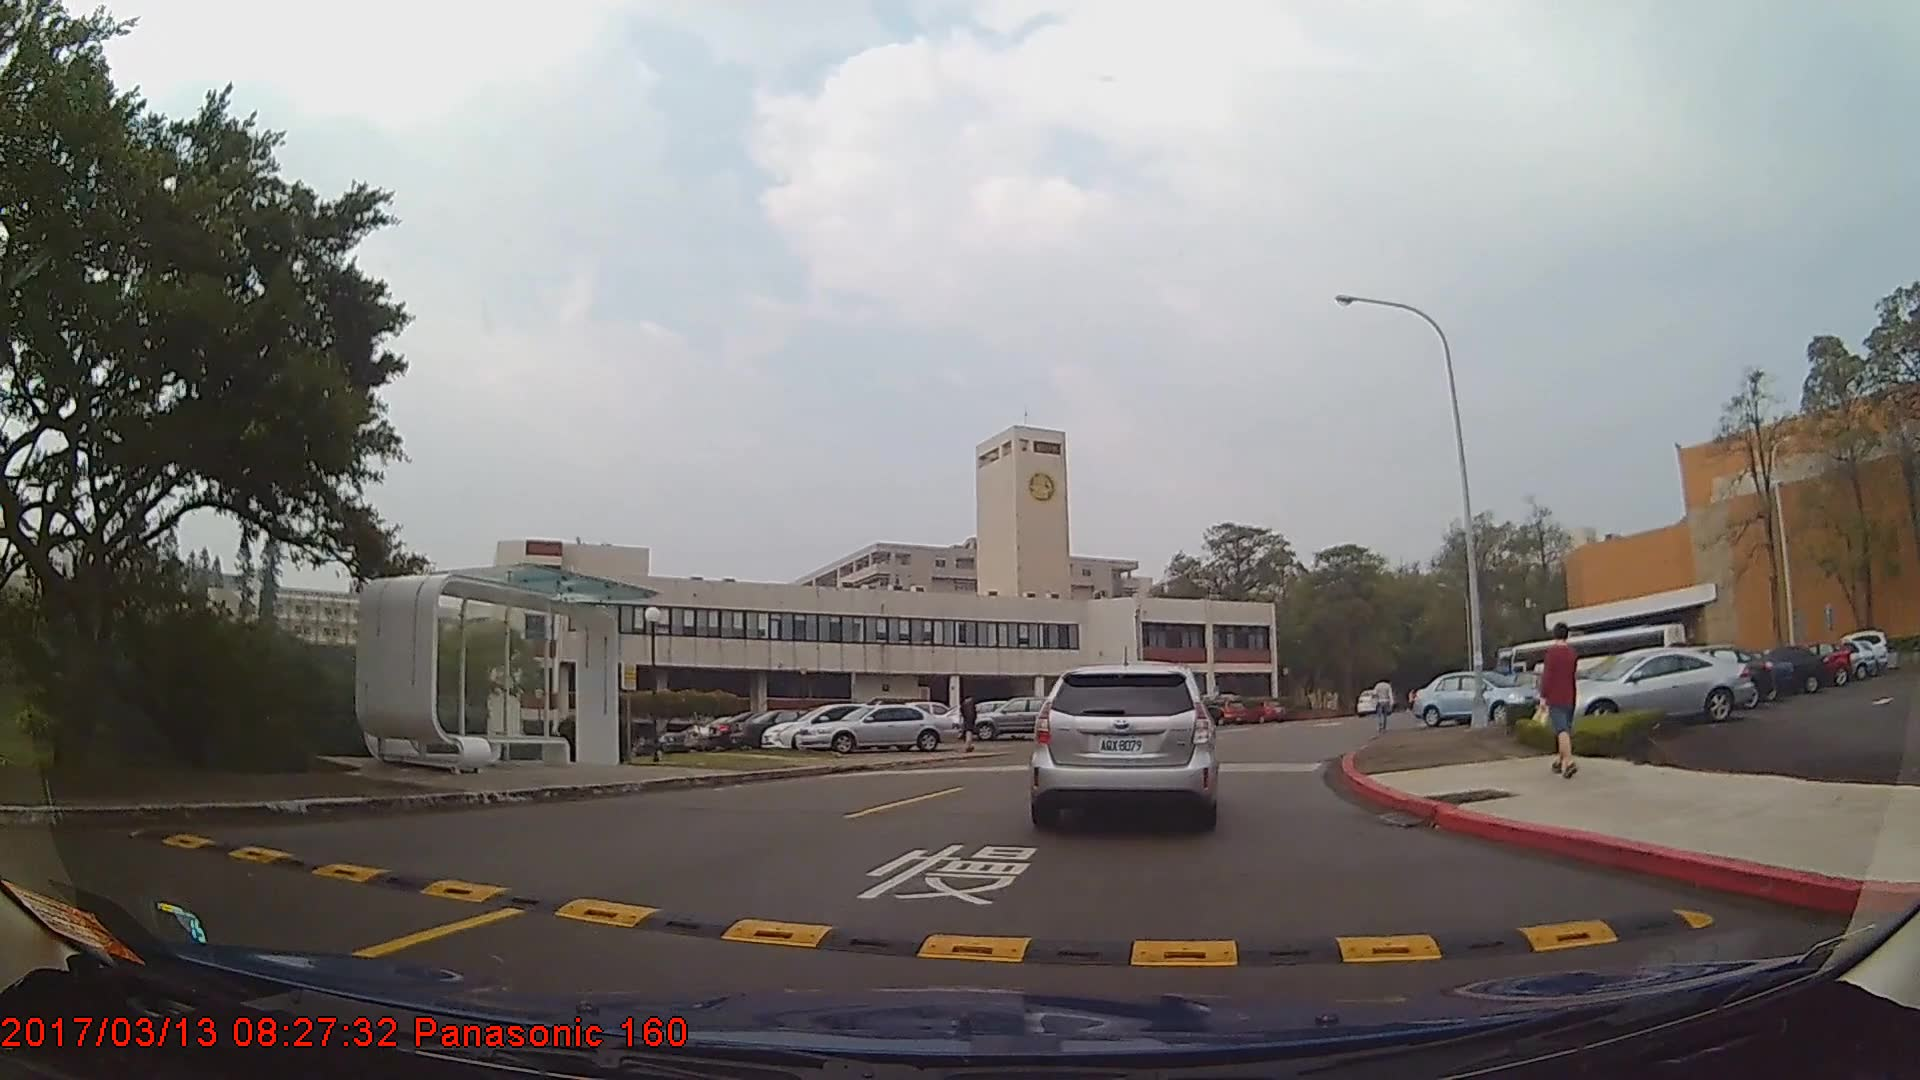pedestrian: (1533, 619, 1583, 776), (1372, 672, 1395, 734), (960, 692, 981, 754)
vehicle: (1030, 664, 1215, 828), (1544, 645, 1751, 726), (796, 701, 958, 753), (1409, 671, 1540, 727), (753, 700, 906, 748), (1683, 650, 1795, 702), (1720, 643, 1826, 695), (965, 694, 1074, 739), (728, 709, 838, 750), (1355, 689, 1391, 716)
